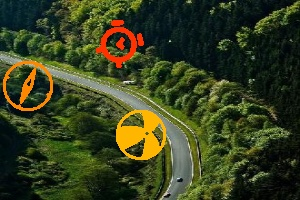帽子: (117, 110, 166, 158)
指南针: (4, 59, 54, 110)
闹钟: (95, 20, 145, 66)
